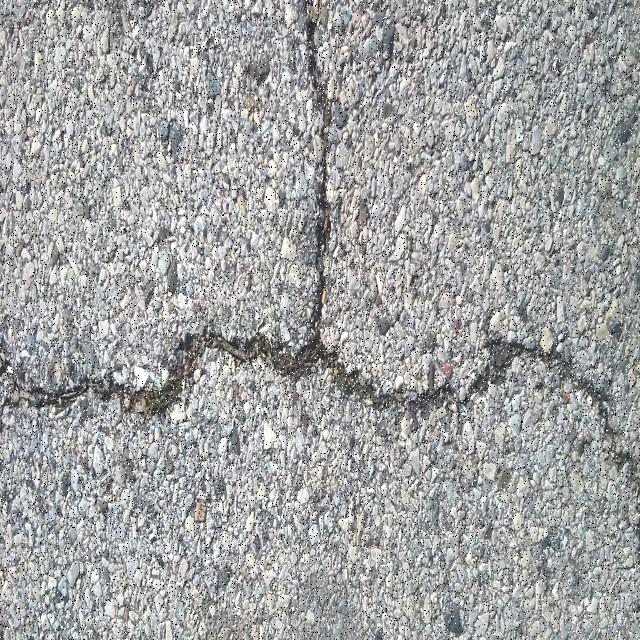Crack: (0, 0, 640, 578)
